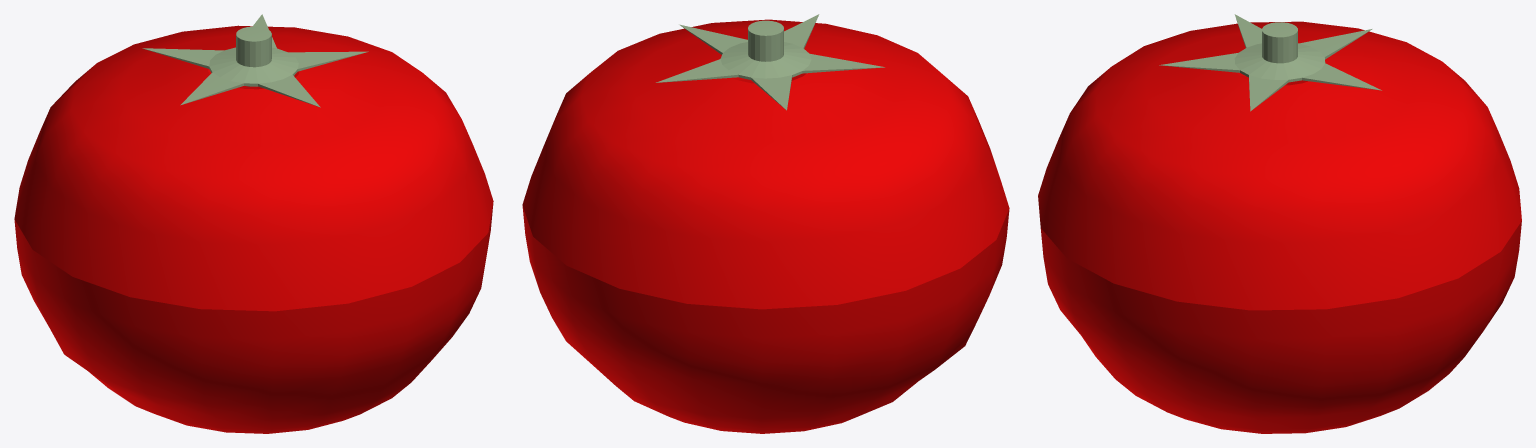
The model's file is spinningtomato.fbx.
3 views of the same model, side by side, from view 1: azimuth 30°, elevation 25°; view 2: azimuth 150°, elevation 25°; view 3: azimuth 270°, elevation 25° (orthographic).
Parts seen in each view (by area): view 1: polySurface3; view 2: polySurface3; view 3: polySurface3.
Boxes of the visible parts, left/top/right/bottom form: polySurface3: left=14, top=14, right=493, bottom=433; polySurface3: left=522, top=14, right=1009, bottom=433; polySurface3: left=1038, top=14, right=1521, bottom=433.
Bounding box in the file's own units: 1.63 × 1.36 × 1.63.
